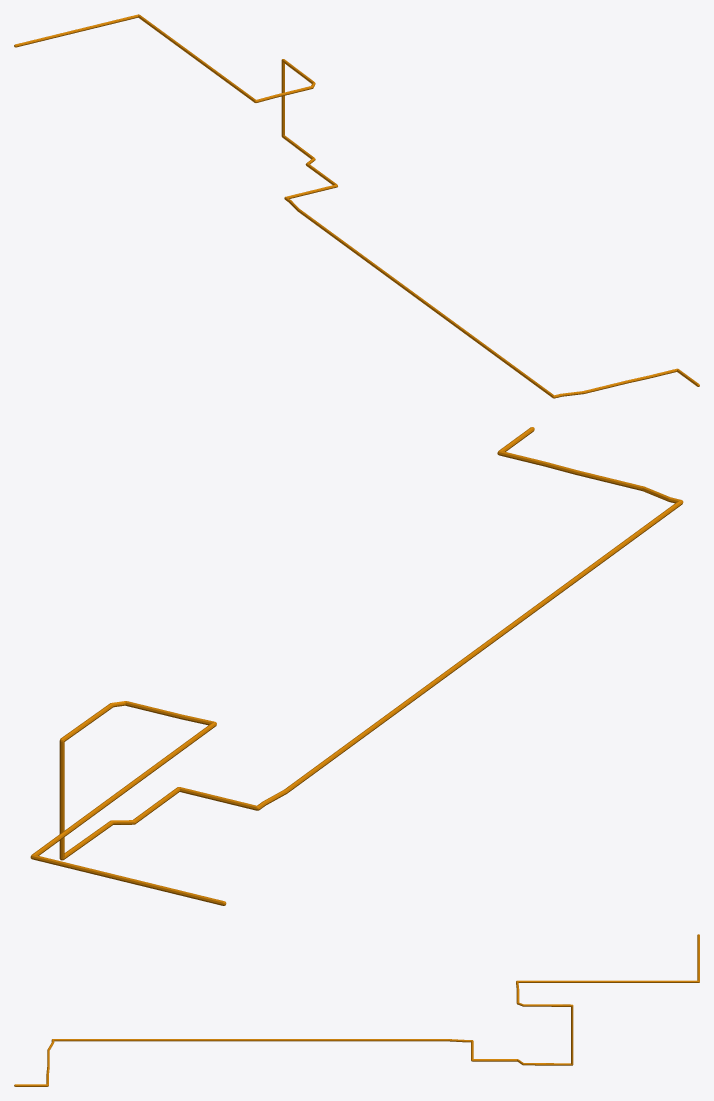
3 views of the same model, one above another, from view 1: azimuth 30°, elevation 25°; view 2: azimuth 150°, elevation 25°; view 3: azimuth 270°, elevation 25° (orthographic). The views are drawn at different scales.
Size of the model in its own units: 1690 by 520 by 5291.
